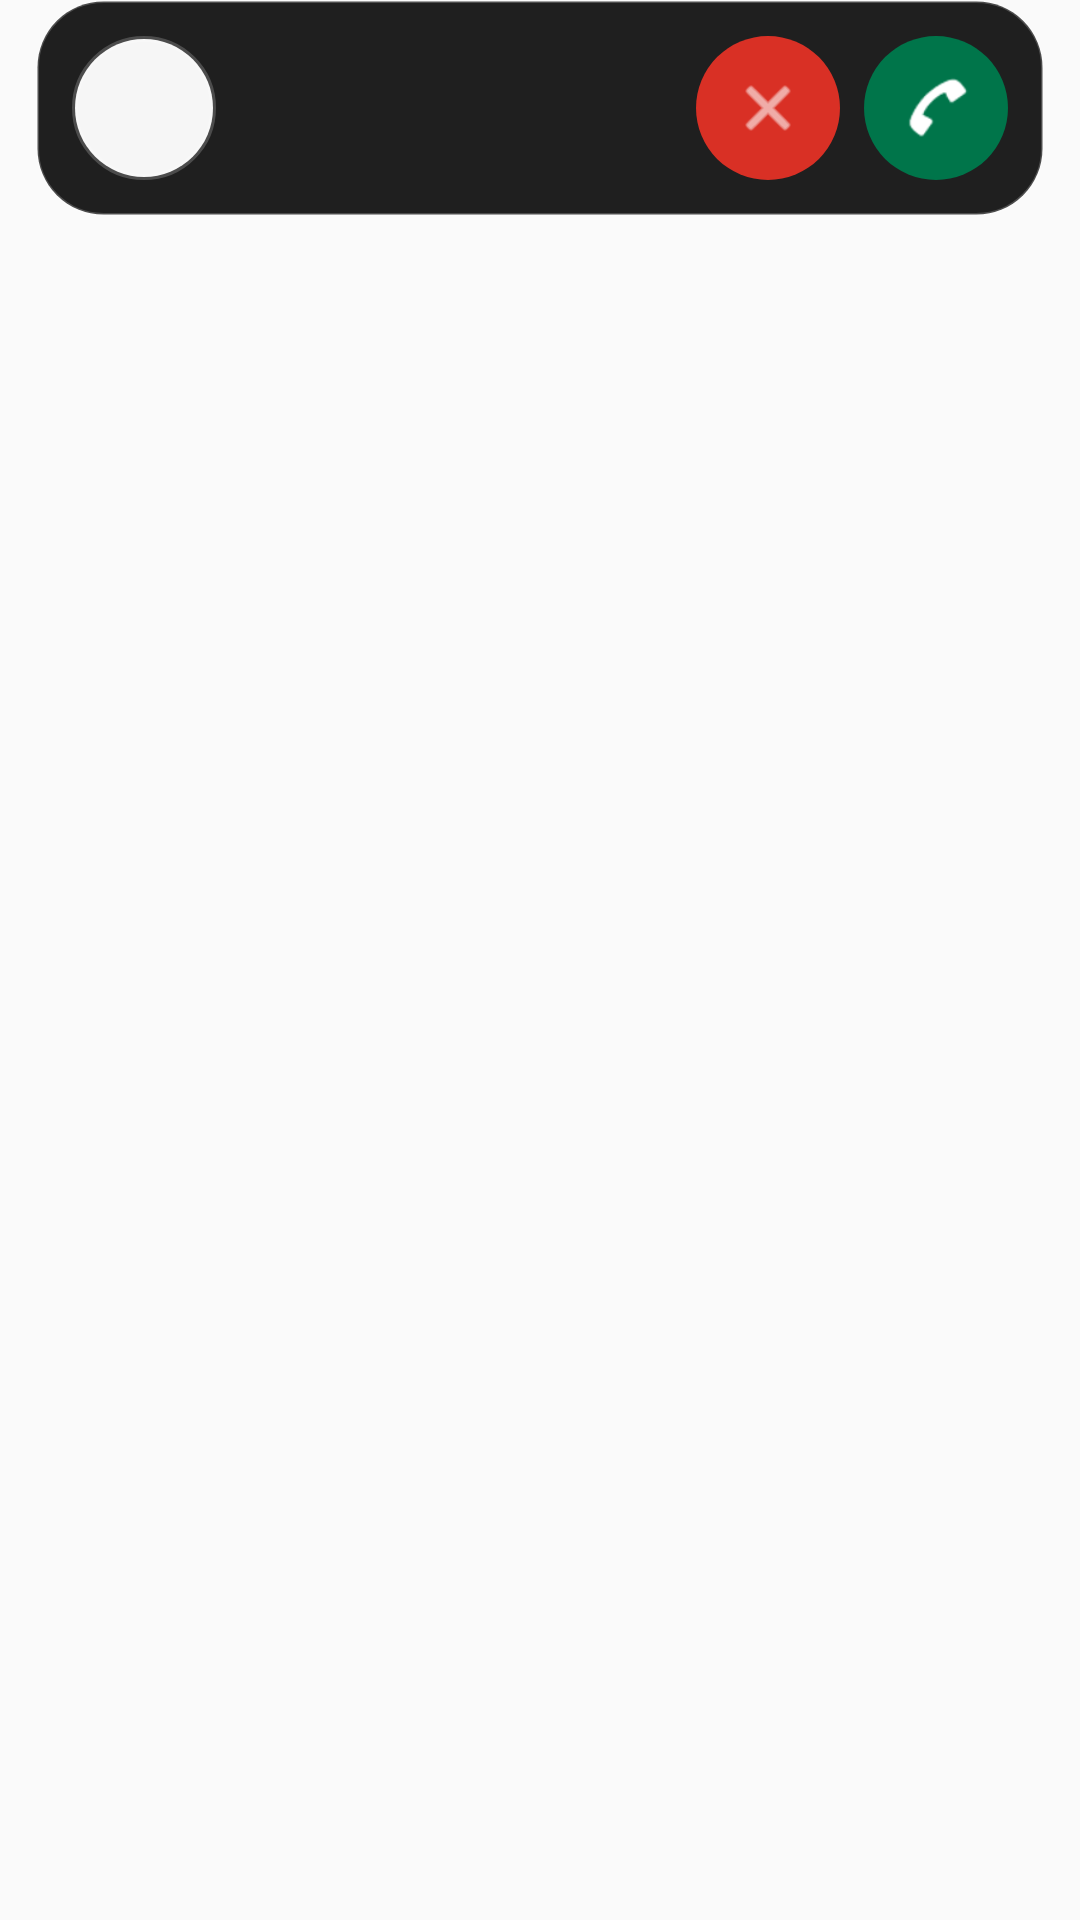

Screen size 1080×1920. Icon name, then its box in pixels as [x1, y1, x2, y2]:
거절: [696, 36, 840, 180]
수락: [864, 36, 1008, 180]
